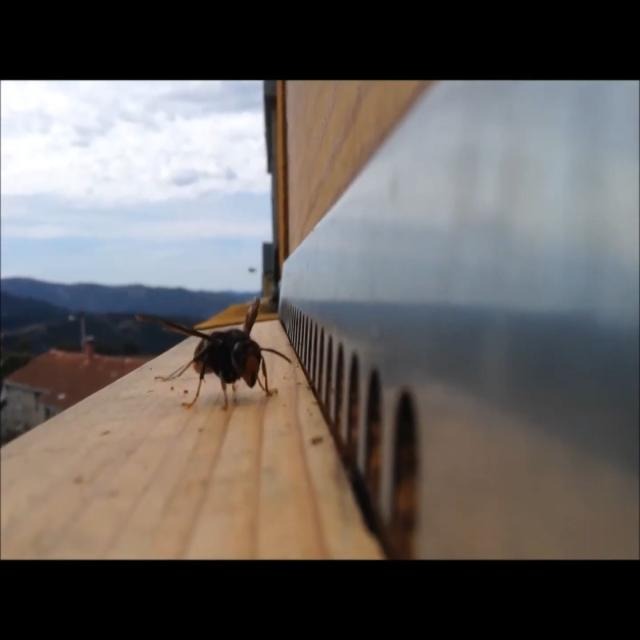Hornets: (133, 296, 293, 416)
